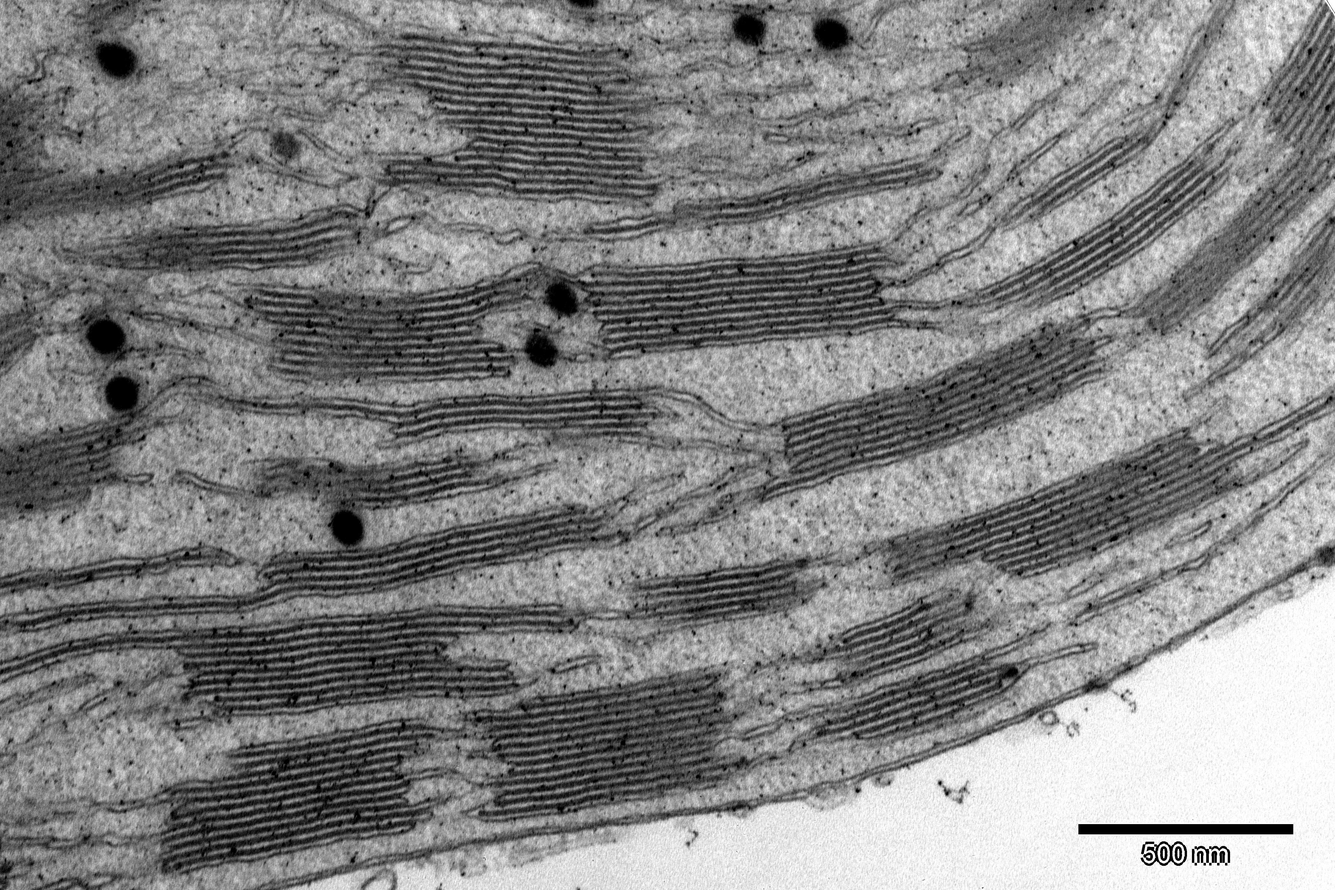granum: (1131, 0, 1335, 340), (870, 421, 1251, 592), (777, 310, 1115, 496), (375, 17, 664, 211), (168, 600, 578, 722), (466, 656, 758, 826), (951, 139, 1224, 319), (155, 715, 437, 884), (249, 497, 633, 609), (243, 257, 553, 390), (575, 237, 902, 363), (0, 77, 234, 239), (668, 145, 946, 237), (55, 201, 377, 279), (803, 648, 1020, 754), (386, 383, 667, 456), (243, 444, 508, 520), (0, 401, 157, 529), (830, 577, 993, 693), (622, 556, 828, 635), (959, 0, 1119, 97), (1010, 131, 1145, 225), (1253, 203, 1335, 337), (66, 0, 160, 43), (0, 301, 42, 384)
